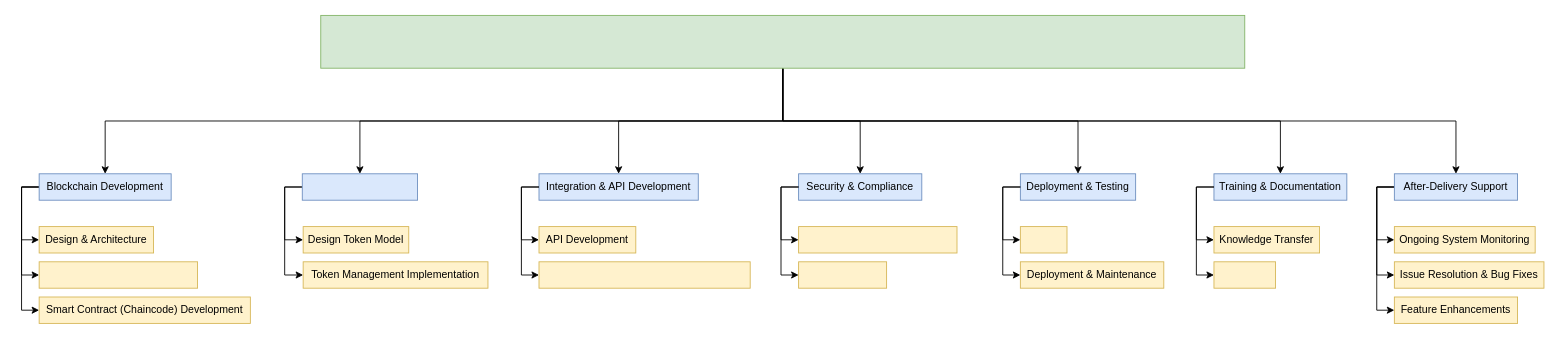
Some shapes in this 1559 by 339 pixel diagram are drawn without their labels. The centre of each missing label's shape, as x and y in pixels:
Audit & Logging: the point at 842,274
Handover: the point at 1244,274
Identity & Access Management: the point at 877,239
Network Setup & Configuration: the point at 118,274
REC Blockchain Infrastructure: the point at 782,41
Testing: the point at 1043,239
Tokenization of RECs: the point at 359,186
Web Portal Integration (Support to RESL): the point at 644,274
